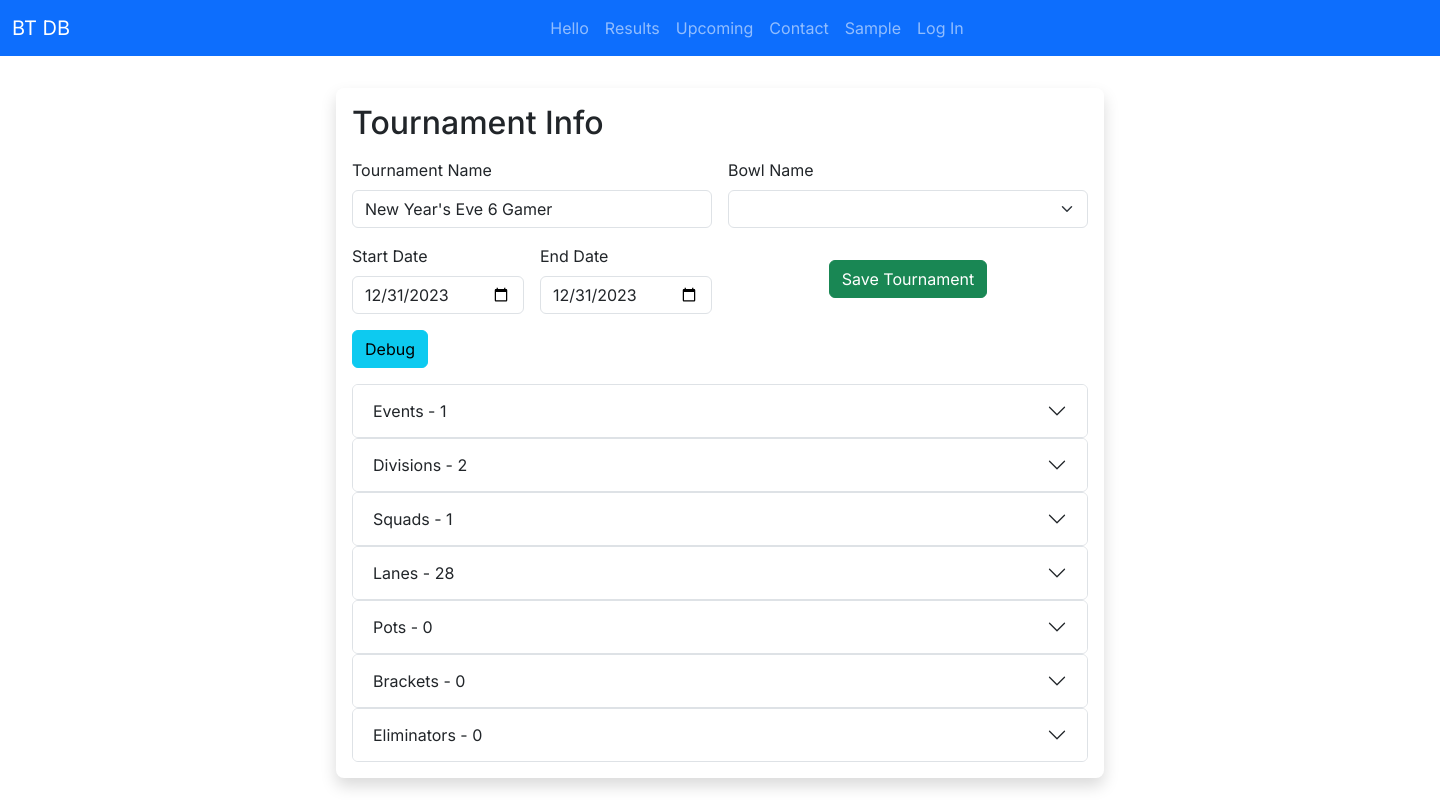
Scenario: TmntDataPage - Divs Component › changing the div name changes the divisions radio buttons › changing the 1st div name changes the Pots divisions radio buttons
This screenshot has width=1440, height=800.
Click the button "Divisions - 2" at (415, 465), box [353,439,1087,491]
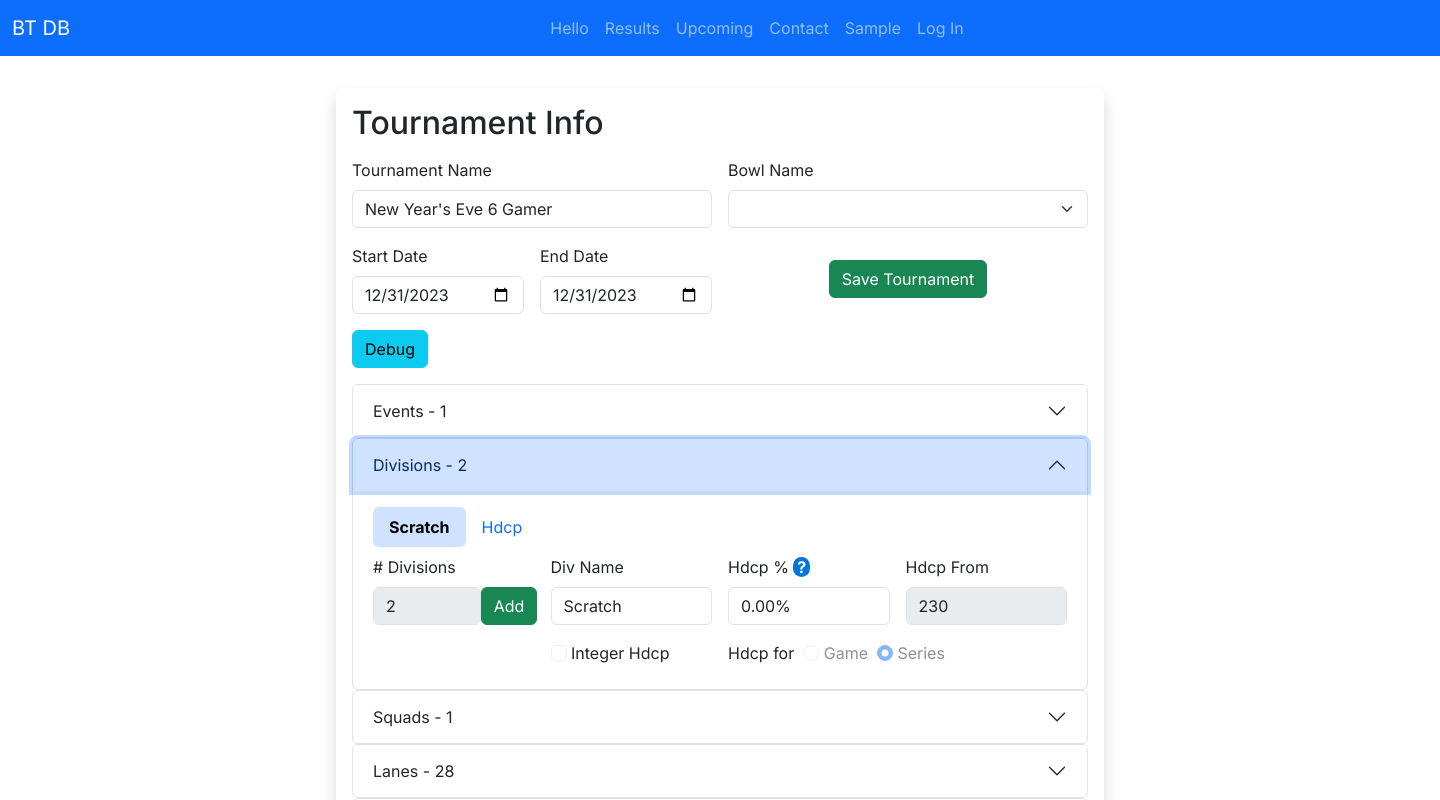
Result: the number of fields labelled "Div Name" is 2
Result: the field labelled "Div Name" holds "Scratch"
Clear the field labelled "Div Name" at (631, 606), box [550,587,712,625]
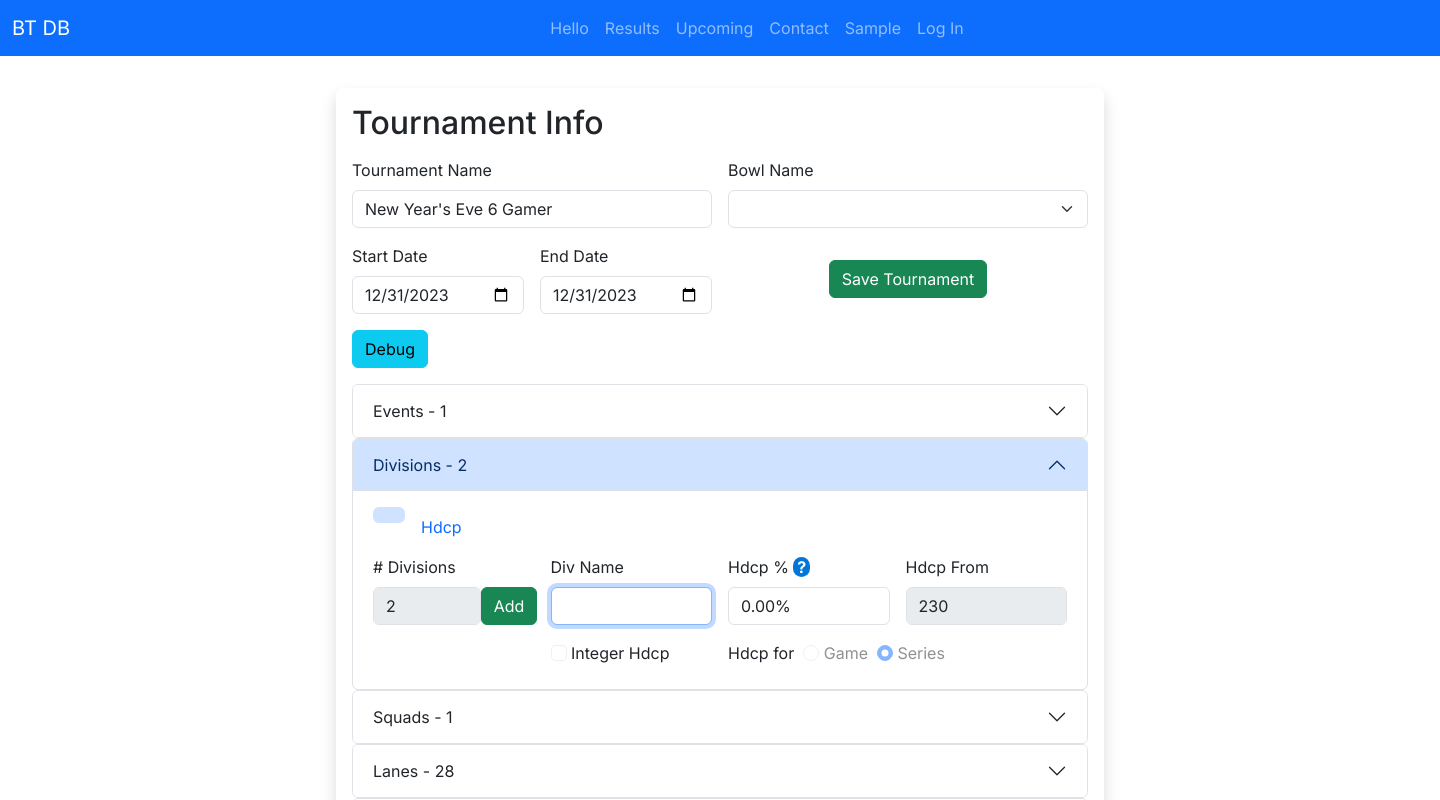
Type "Open" into the field labelled "Div Name" at (631, 606), box [550,587,712,625]
(page scrolled)
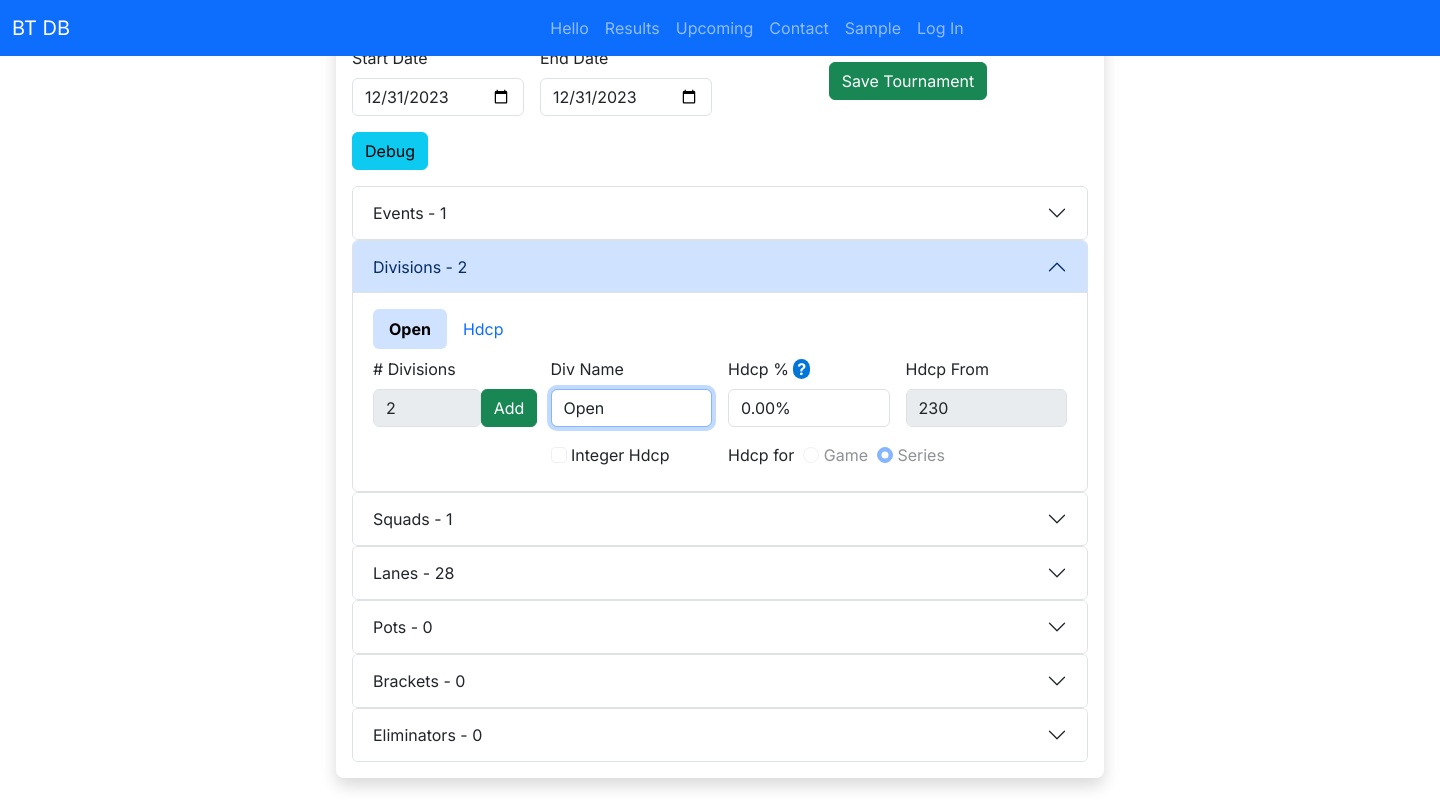
Click the button "Pots - 0" at (398, 627), box [353,601,1087,653]
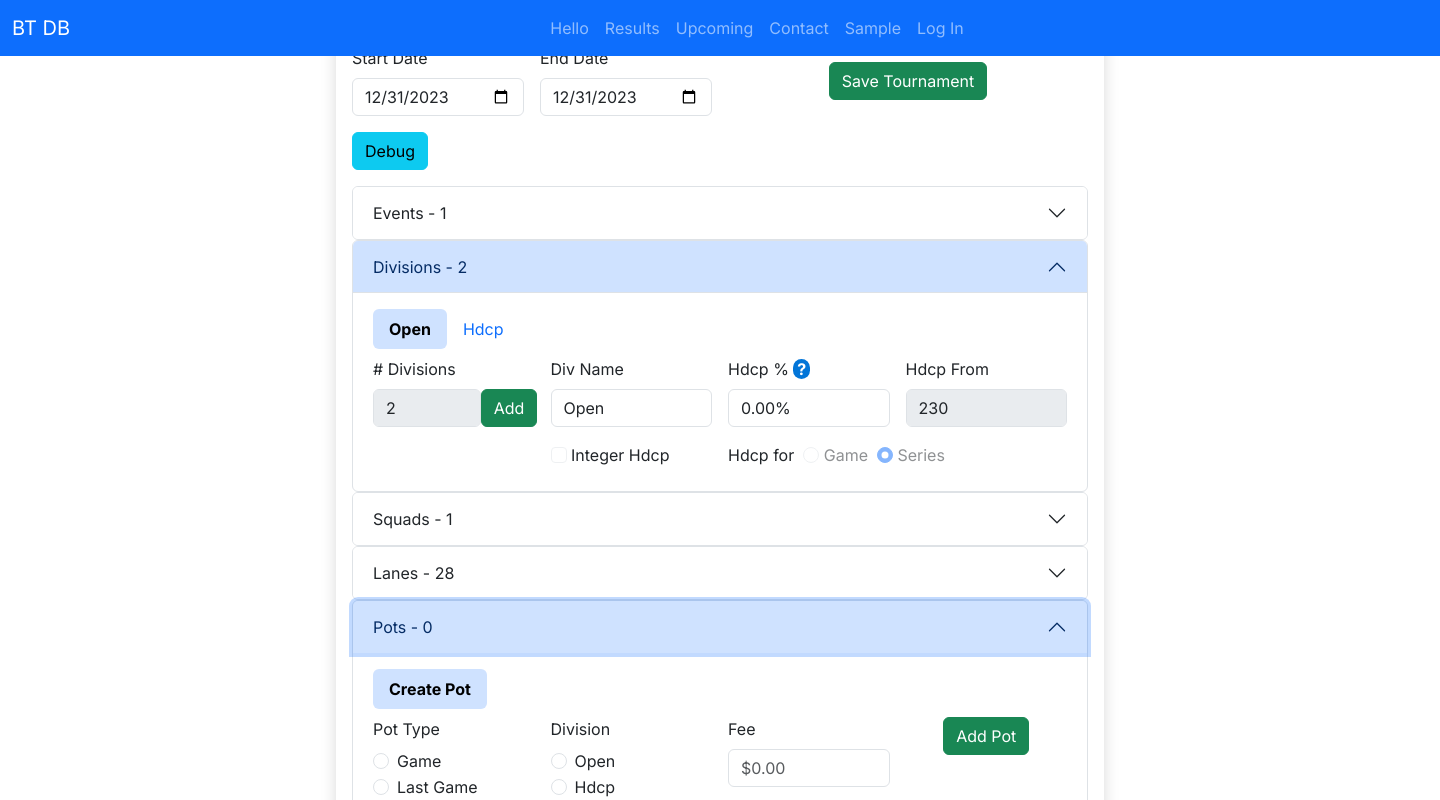
Result: the number of radio buttons labelled "Open" is 3
Result: the radio button labelled "Open" is not checked at [550,753,566,769]
